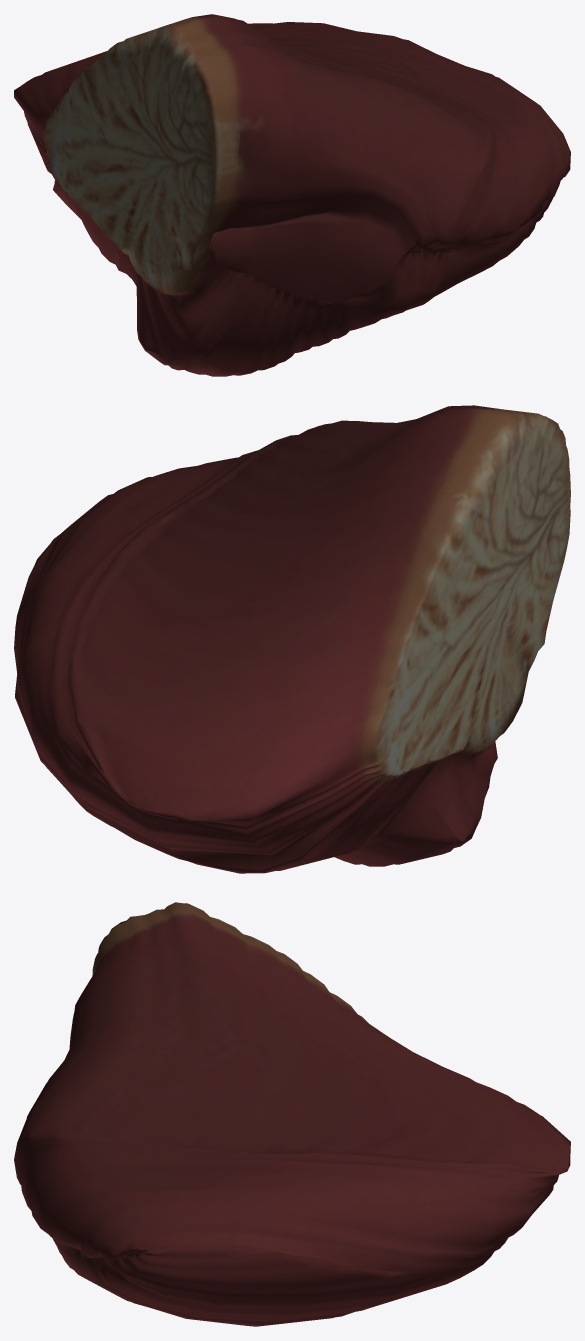
File: Nervous_Full_Cerebellum_3.gltf
The picture shows the model from 3 angles, top to bottom: view 1: azimuth 30°, elevation 25°; view 2: azimuth 150°, elevation 25°; view 3: azimuth 270°, elevation 25°; orthographic projection. The views are drawn at different scales.
Visible parts, largest first — view 1: Nervous_Full_Cerebellum_3; view 2: Nervous_Full_Cerebellum_3; view 3: Nervous_Full_Cerebellum_3.
Part boxes in pixels (x1=…): Nervous_Full_Cerebellum_3: x1=14, y1=14, x2=570, y2=376; Nervous_Full_Cerebellum_3: x1=14, y1=405, x2=570, y2=873; Nervous_Full_Cerebellum_3: x1=14, y1=902, x2=570, y2=1326.
Size of the model in its own units: 4.45 by 4.26 by 5.89.
1 material, 1 textured.
